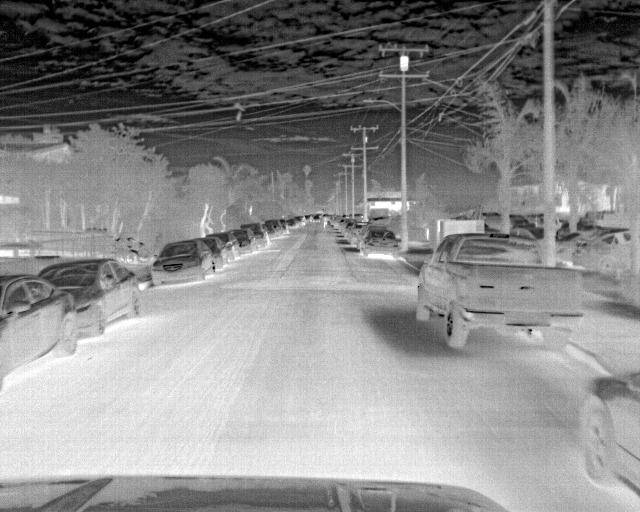car: (413, 230, 585, 348), (0, 271, 83, 383), (40, 256, 139, 337), (583, 370, 639, 497), (149, 240, 215, 287), (571, 228, 632, 276), (555, 228, 599, 260), (356, 228, 404, 257), (197, 238, 226, 265), (350, 224, 382, 248), (211, 233, 240, 259), (239, 224, 276, 244), (226, 230, 247, 252), (264, 220, 286, 237), (277, 219, 289, 234), (284, 217, 299, 229)
